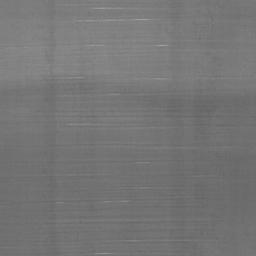Waist folding: (50, 199, 218, 243), (68, 114, 231, 151), (34, 72, 256, 98), (64, 3, 159, 23), (67, 43, 168, 49), (42, 173, 107, 179), (92, 251, 116, 256)
